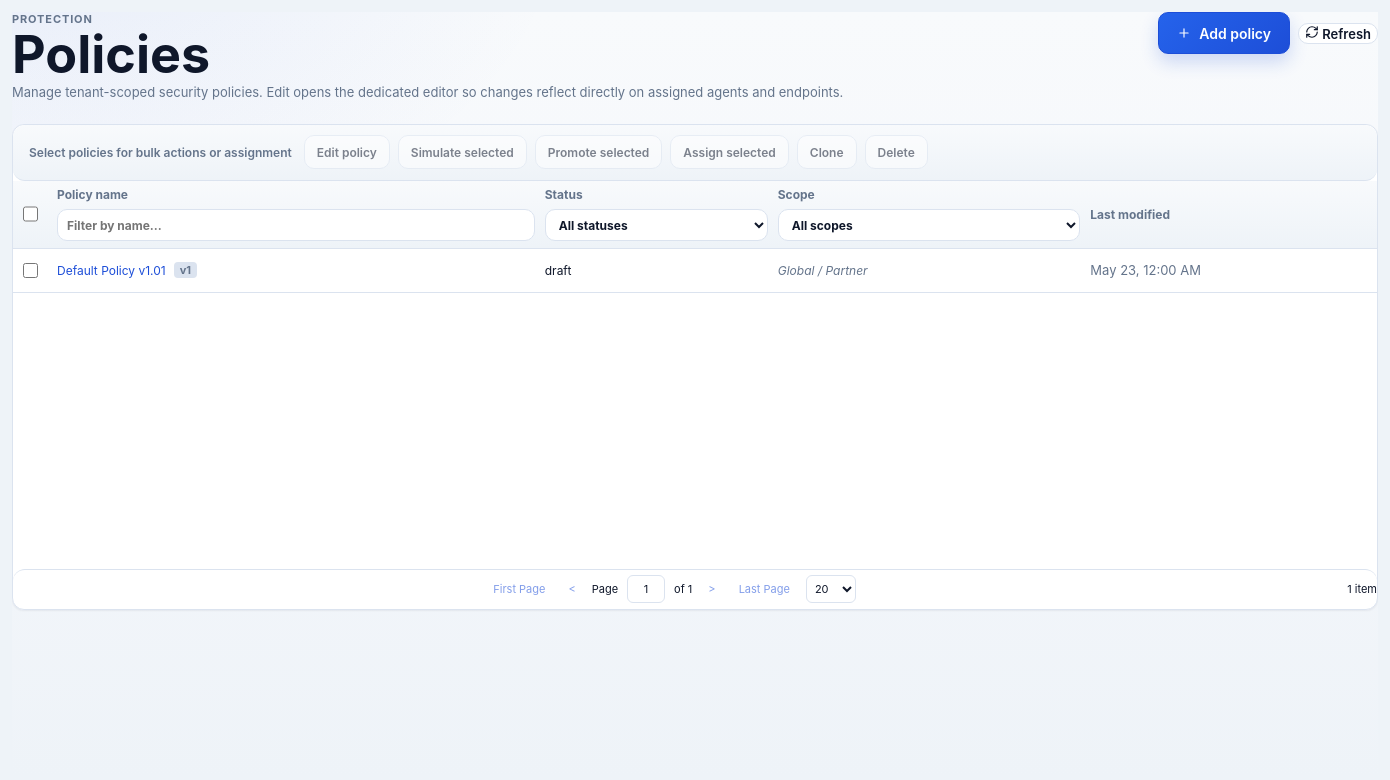
it: PolicyPage › runs a policy simulation and surfaces the approval-gate summary
Expected: the button "Default Policy v1.01" is shown, x1=57 y1=263 x2=166 y2=278
Click the label named "Select Default Policy v1.01". click: (30, 270)
box: x1=23 y1=263 x2=38 y2=278
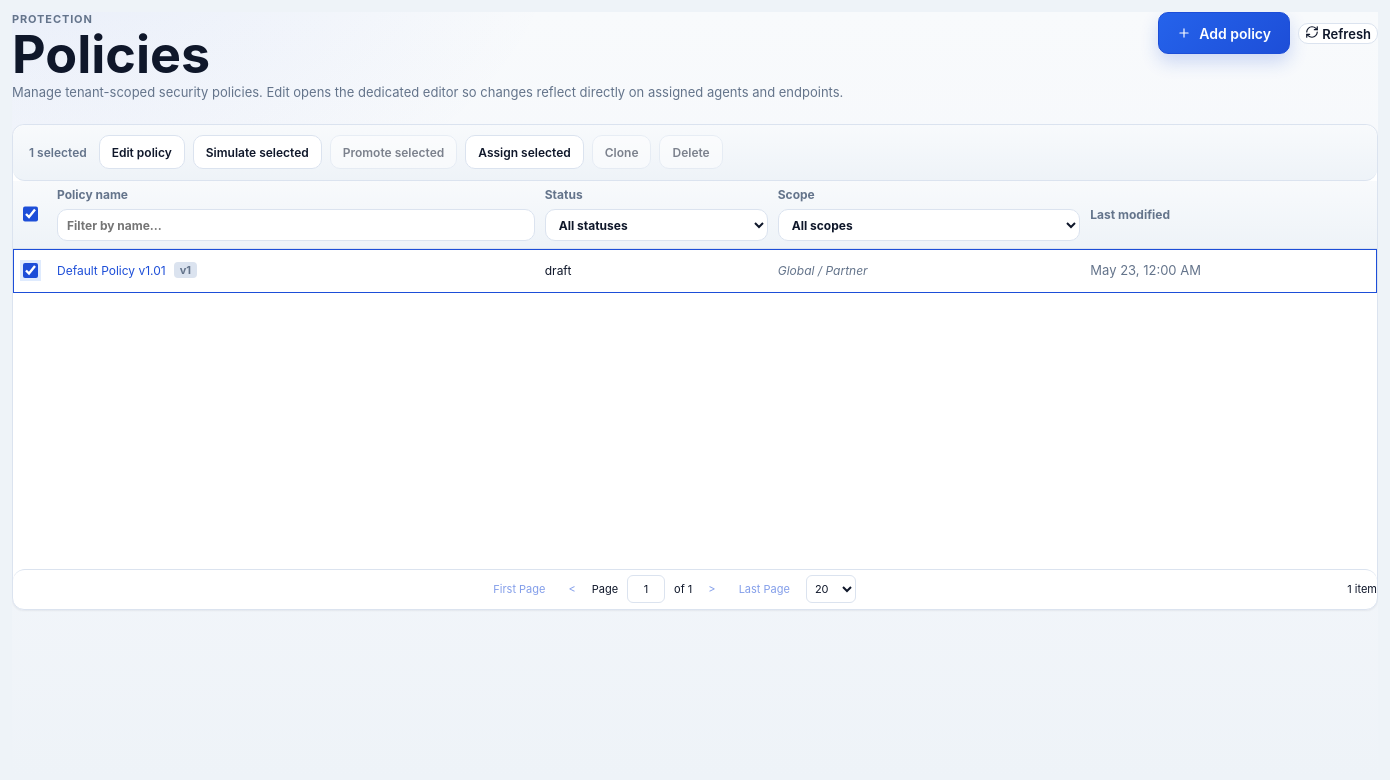
Click the button "Simulate selected". click: (257, 152)
box: x1=193 y1=135 x2=322 y2=169
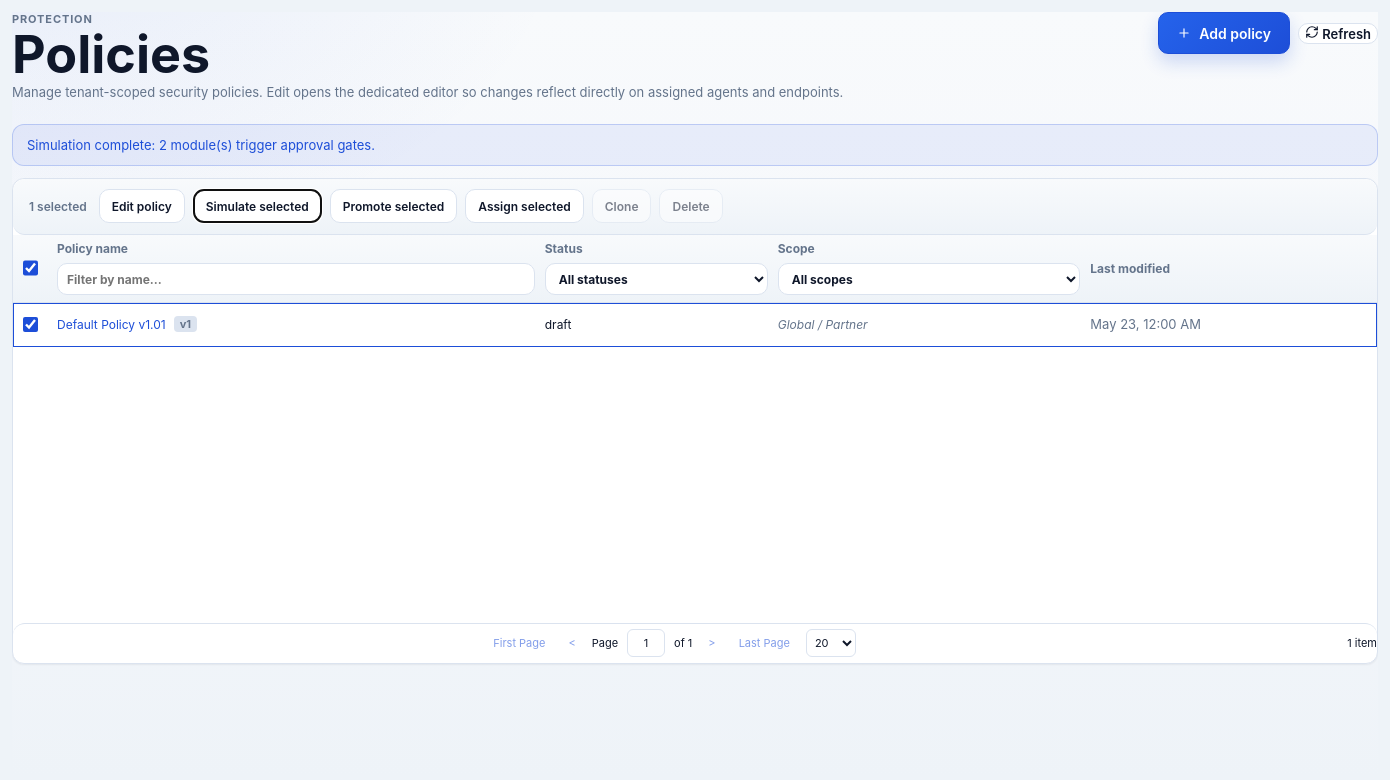
Expected: the text "Simulation complete: 2 module(s) trigger approval gates." is shown, x1=12 y1=124 x2=1378 y2=166
